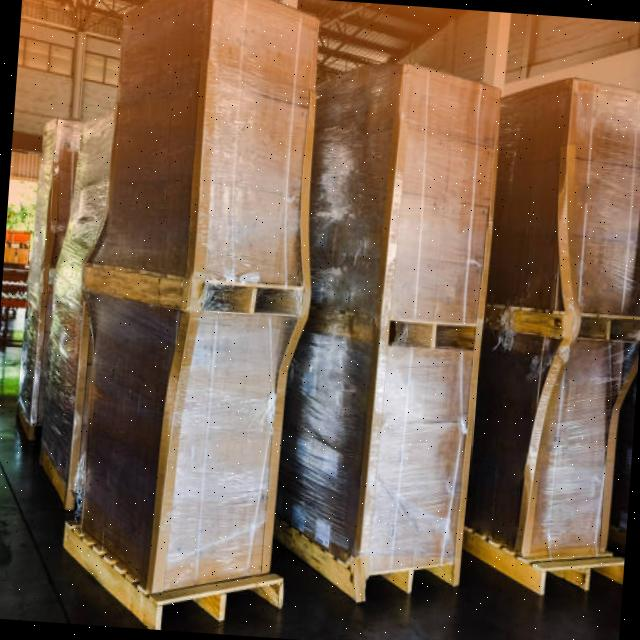Wooden-Pallets: (54, 516, 290, 629), (351, 554, 462, 607), (533, 556, 623, 609)
